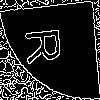R: (25, 25, 70, 66)
